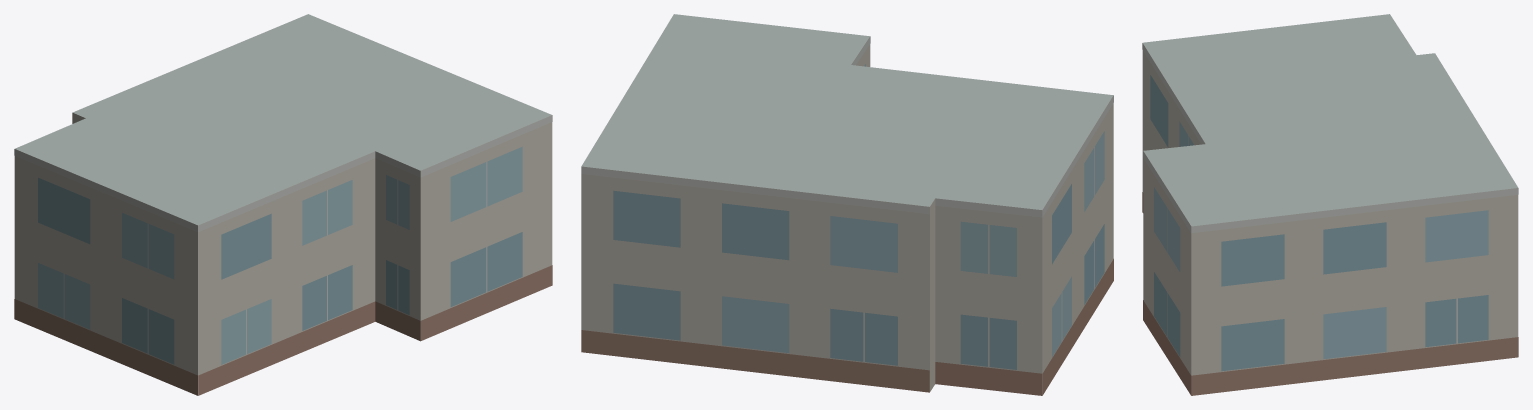
File: survey-upis-32509704.glb
3 views of the same model, side by side, from view 1: azimuth 30°, elevation 25°; view 2: azimuth 150°, elevation 25°; view 3: azimuth 270°, elevation 25° (orthographic). The views are drawn at different scales.
Visible parts, largest first — view 1: survey-upis-32509704.tmp; view 2: survey-upis-32509704.tmp; view 3: survey-upis-32509704.tmp.
Boxes of the visible parts, x1,y1,x2,y2 form: survey-upis-32509704.tmp: (14, 14, 552, 395); survey-upis-32509704.tmp: (581, 14, 1113, 395); survey-upis-32509704.tmp: (1142, 14, 1518, 395).
Size of the model in its own units: 16.42 by 6.1 by 12.28.
